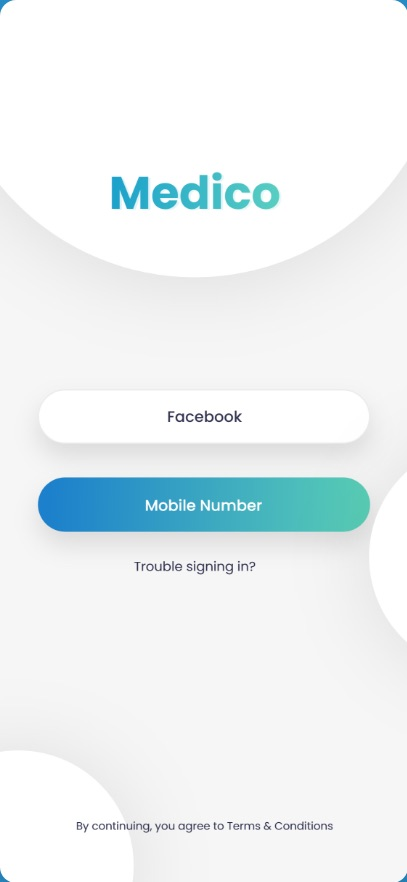Text: (112, 171, 280, 211), (74, 819, 334, 834), (134, 560, 256, 576)
TextButton: (38, 477, 370, 533), (39, 390, 370, 444)
